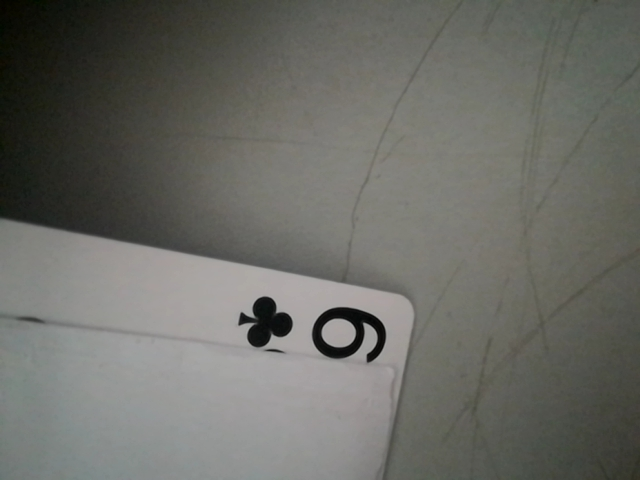mh 6: (221, 287, 401, 371)
